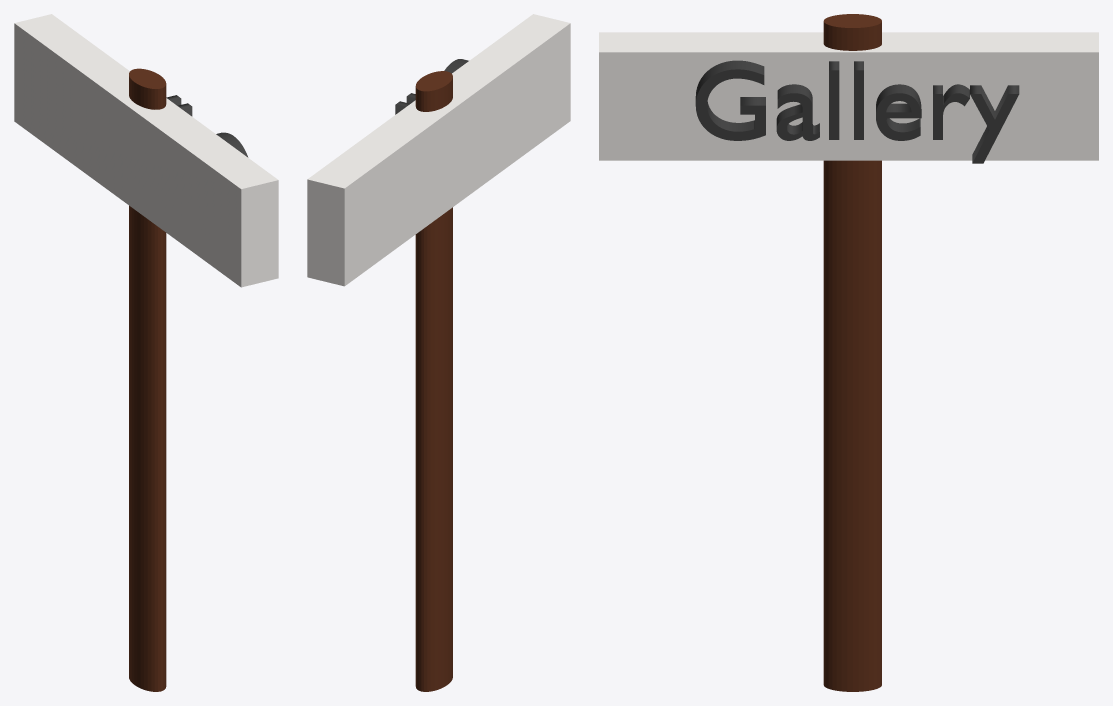
File: gallerySign.glb
3 views of the same model, side by side, from view 1: azimuth 30°, elevation 25°; view 2: azimuth 150°, elevation 25°; view 3: azimuth 270°, elevation 25° (orthographic). The views are drawn at different scales.
Parts seen in each view (by area): view 1: Cube, Cylinder, Text; view 2: Cube, Cylinder; view 3: Cube, Cylinder, Text.
Part boxes in pixels (box(x1,y1,x2,y2)): Cube: box(14, 14, 278, 287); Cylinder: box(129, 68, 166, 691); Text: box(166, 95, 248, 157); Cube: box(307, 14, 570, 286); Cylinder: box(415, 71, 452, 691); Cube: box(599, 32, 1098, 160); Cylinder: box(823, 14, 881, 691); Text: box(695, 60, 1019, 163).
Size of the model in its own units: 0.339 by 3.51 by 2.39.
